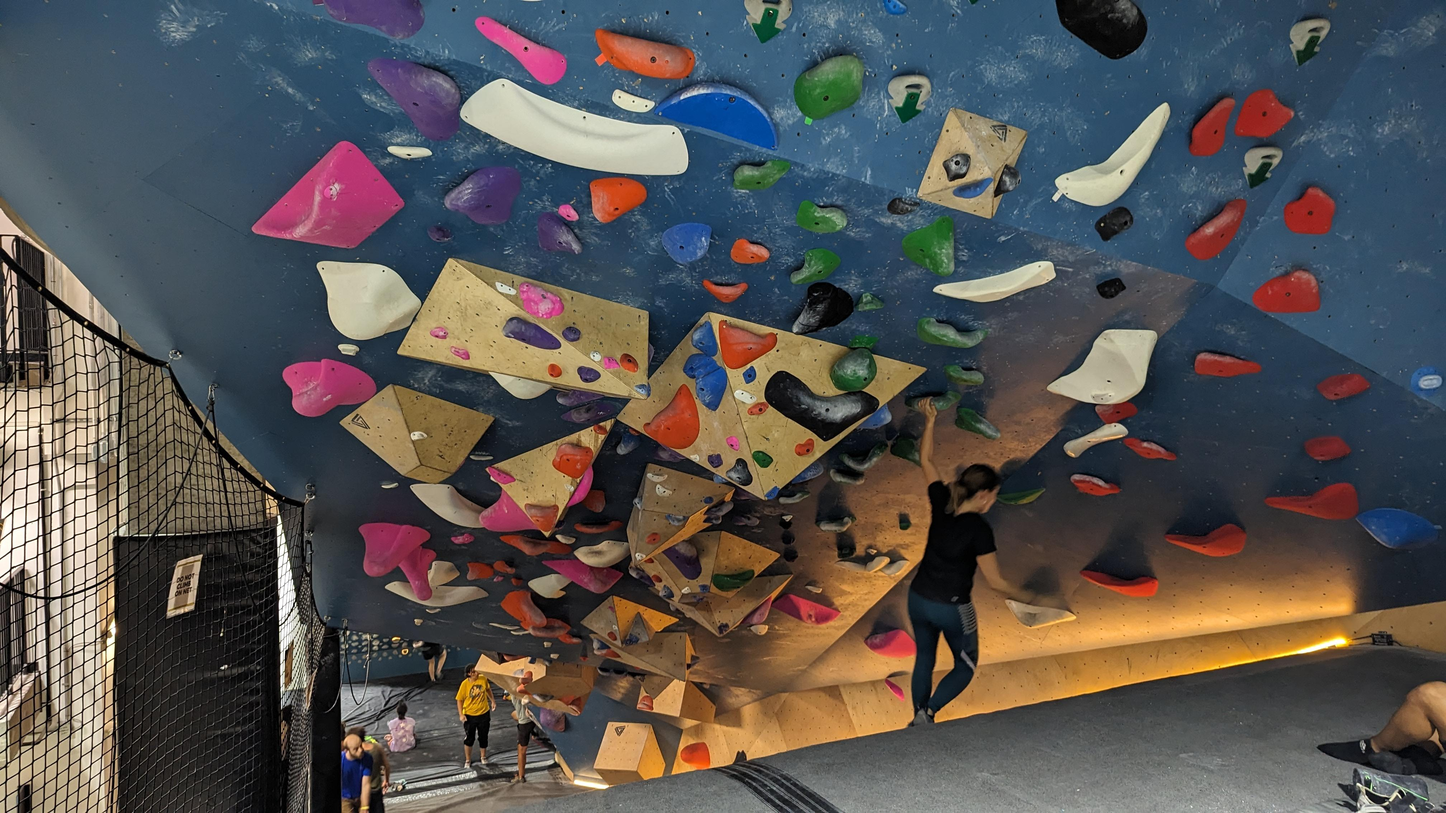black-hold: (453, 69, 698, 197), (245, 135, 408, 294), (1050, 101, 1197, 223), (359, 29, 481, 151), (312, 234, 428, 350), (652, 64, 792, 156), (1045, 307, 1160, 417), (756, 367, 882, 453), (471, 0, 574, 92), (279, 342, 380, 423), (784, 45, 879, 128), (931, 258, 1059, 314), (587, 27, 698, 87), (405, 466, 494, 540), (1349, 496, 1445, 562), (640, 383, 719, 462), (1180, 191, 1261, 268), (441, 157, 524, 230), (1055, 0, 1148, 60), (1223, 81, 1297, 156), (789, 276, 861, 353), (472, 487, 541, 558), (358, 516, 435, 579), (1263, 481, 1360, 529), (678, 344, 740, 415), (537, 550, 625, 599), (708, 319, 779, 379), (322, 0, 426, 40), (878, 61, 943, 125), (525, 207, 588, 270), (394, 540, 455, 604), (1185, 89, 1237, 163), (823, 341, 886, 402), (783, 237, 844, 298), (1249, 267, 1321, 318), (1281, 10, 1342, 67), (900, 215, 955, 277), (588, 171, 651, 225), (1163, 522, 1249, 561), (498, 581, 555, 639), (769, 589, 842, 634), (913, 314, 990, 356), (384, 580, 490, 610), (1000, 598, 1078, 637), (1061, 417, 1130, 461), (1235, 137, 1292, 190), (500, 313, 566, 358), (510, 278, 569, 327), (1282, 184, 1337, 236), (661, 532, 713, 586), (658, 217, 713, 268), (483, 370, 555, 406), (497, 531, 573, 564), (572, 535, 634, 575), (1077, 569, 1159, 599), (793, 198, 851, 240), (838, 437, 895, 478), (549, 435, 597, 483), (951, 404, 1006, 445), (1193, 351, 1263, 383), (744, 0, 793, 45), (1315, 367, 1373, 404), (863, 626, 918, 664), (559, 396, 617, 431), (1091, 202, 1138, 244), (1120, 434, 1180, 466), (732, 159, 792, 191), (564, 464, 602, 513), (887, 431, 932, 470), (1067, 471, 1123, 502), (850, 402, 896, 438), (728, 236, 772, 273), (1303, 432, 1353, 464), (608, 87, 657, 119), (741, 594, 781, 633), (990, 163, 1026, 206), (686, 319, 721, 362), (939, 361, 986, 392), (711, 564, 758, 595), (951, 175, 997, 204), (723, 455, 760, 491), (700, 279, 749, 305), (788, 459, 827, 491), (1094, 399, 1139, 426), (527, 573, 572, 599), (997, 487, 1048, 509), (940, 151, 975, 183), (1410, 365, 1445, 397), (1094, 272, 1128, 304), (425, 557, 461, 587), (523, 503, 559, 533), (651, 443, 688, 472), (556, 387, 606, 408), (814, 514, 859, 537), (580, 484, 612, 516), (702, 495, 736, 525), (679, 741, 711, 771), (529, 617, 572, 639), (626, 563, 659, 591), (930, 387, 965, 413), (484, 463, 517, 490), (879, 556, 913, 581), (730, 485, 763, 510), (615, 430, 642, 460), (537, 707, 568, 733), (881, 676, 910, 703), (886, 196, 921, 218), (386, 145, 434, 161), (828, 468, 866, 488), (863, 551, 892, 576), (555, 200, 581, 227), (574, 520, 624, 534), (853, 291, 886, 312), (749, 445, 775, 471), (847, 333, 880, 352), (792, 437, 819, 460), (732, 386, 759, 408), (617, 351, 641, 375), (833, 559, 871, 574), (466, 561, 494, 581), (778, 491, 812, 506), (492, 280, 518, 299), (448, 344, 473, 362), (426, 226, 452, 243), (560, 324, 582, 344), (724, 433, 744, 454), (590, 638, 614, 655), (731, 513, 760, 527), (492, 559, 517, 575), (882, 0, 908, 15), (740, 365, 759, 385), (763, 483, 782, 503), (903, 396, 928, 411), (664, 513, 689, 528), (557, 632, 583, 646), (746, 401, 770, 416), (428, 324, 450, 340), (593, 647, 622, 659), (517, 669, 536, 687), (653, 484, 673, 501), (558, 690, 576, 708), (515, 682, 532, 701), (637, 694, 656, 711), (576, 367, 599, 381), (706, 452, 724, 469), (711, 473, 730, 489), (450, 533, 475, 545), (337, 343, 360, 356), (488, 622, 521, 631), (633, 381, 651, 397), (554, 533, 576, 546), (591, 423, 610, 438), (567, 697, 582, 715), (645, 531, 662, 546), (532, 693, 554, 704), (602, 356, 619, 370), (646, 473, 668, 483), (548, 363, 562, 378), (659, 584, 674, 598), (717, 621, 731, 636), (410, 430, 428, 441), (750, 624, 768, 635), (734, 749, 747, 763), (381, 481, 399, 491), (804, 585, 823, 594), (627, 632, 640, 645), (702, 516, 722, 524), (606, 630, 618, 643), (628, 426, 641, 438), (650, 573, 664, 584), (469, 455, 494, 461), (632, 496, 642, 511), (634, 550, 646, 562), (689, 453, 701, 464), (698, 583, 710, 594), (690, 656, 701, 667), (510, 578, 523, 587), (899, 522, 912, 531), (680, 586, 692, 595), (510, 631, 530, 636), (703, 496, 714, 505), (590, 353, 602, 361), (866, 548, 878, 556), (426, 608, 442, 614), (623, 638, 634, 646), (782, 515, 793, 522), (608, 605, 616, 614), (692, 596, 704, 602), (643, 557, 654, 563), (647, 382, 651, 398), (503, 689, 511, 697), (414, 619, 423, 626), (543, 641, 552, 648), (550, 654, 560, 659), (579, 657, 589, 662), (686, 663, 691, 671), (634, 667, 641, 670), (613, 626, 618, 630)
